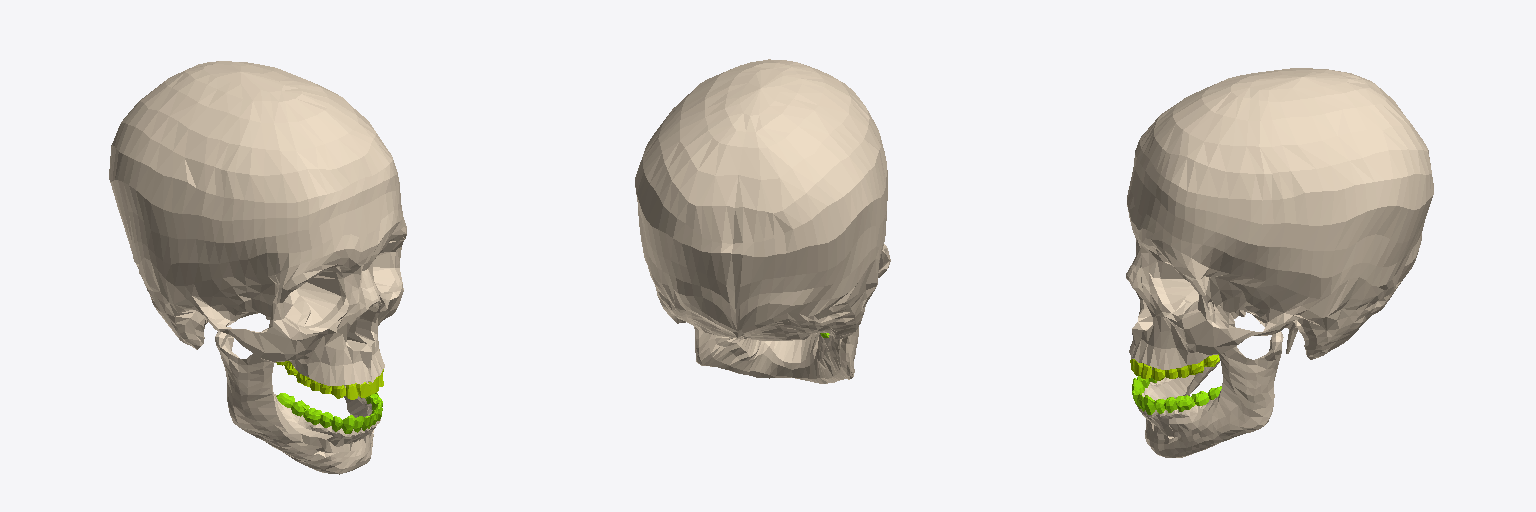
Rendered from skull1.obj.
3 renders of one model, left to right at view 1: azimuth 30°, elevation 25°; view 2: azimuth 150°, elevation 25°; view 3: azimuth 270°, elevation 25°, orthographic.
Parts seen in each view (by area): view 1: skull.001, lteeth.001_lteeth.003, uteeth.001; view 2: skull.001, lteeth.001_lteeth.003; view 3: skull.001, lteeth.001_lteeth.003, uteeth.001.
Boxes of the visible parts, x1=… form: skull.001: x1=109, y1=61, x2=406, y2=387; lteeth.001_lteeth.003: x1=215, y1=327, x2=382, y2=474; uteeth.001: x1=276, y1=361, x2=383, y2=399; skull.001: x1=635, y1=59, x2=890, y2=340; lteeth.001_lteeth.003: x1=694, y1=327, x2=858, y2=383; skull.001: x1=1126, y1=68, x2=1433, y2=369; lteeth.001_lteeth.003: x1=1132, y1=331, x2=1283, y2=457; uteeth.001: x1=1130, y1=354, x2=1219, y2=380.
Size of the model in its own units: 5.23 by 7.76 by 6.14.